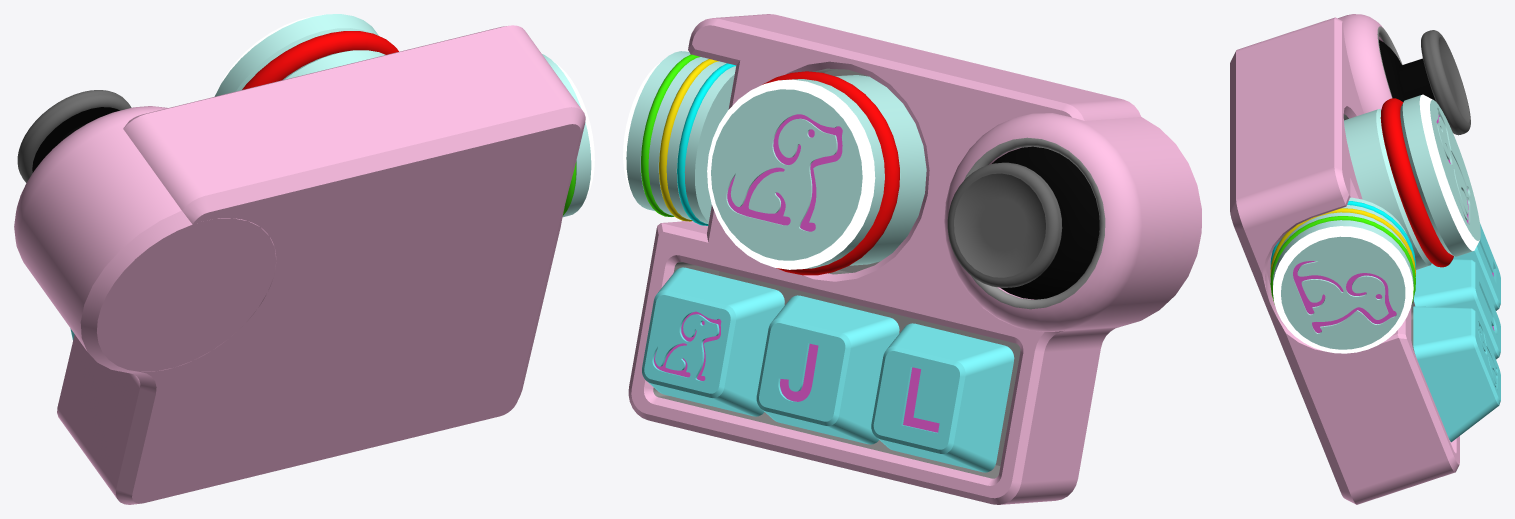
Rendered from cubey-495d68a6.glb.
3 views of the same model, side by side, from view 1: azimuth 30°, elevation 25°; view 2: azimuth 150°, elevation 25°; view 3: azimuth 270°, elevation 25° (orthographic). The views are drawn at different scales.
Parts seen in each view (by area): view 1: 实体193, 实体202, 实体186, 实体198; view 2: 实体193, 实体202, 实体186, 实体191, 实体190, 实体189, 实体198; view 3: 实体193, 实体198, 实体202, 实体189, 实体186, 实体190, 实体191.
Part boxes in pixels (left/top/right/bottom): 实体193: left=14, top=25, right=585, bottom=504; 实体202: left=214, top=14, right=398, bottom=96; 实体186: left=17, top=90, right=131, bottom=182; 实体198: left=542, top=54, right=594, bottom=217; 实体193: left=628, top=14, right=1201, bottom=504; 实体202: left=707, top=71, right=926, bottom=275; 实体186: left=947, top=146, right=1099, bottom=299; 实体191: left=871, top=323, right=1014, bottom=472; 实体190: left=756, top=295, right=899, bottom=444; 实体189: left=642, top=267, right=784, bottom=416; 实体198: left=623, top=51, right=736, bottom=225; 实体193: left=1230, top=14, right=1459, bottom=504; 实体198: left=1270, top=197, right=1415, bottom=353; 实体202: left=1344, top=94, right=1480, bottom=269; 实体189: left=1413, top=306, right=1500, bottom=442; 实体186: left=1379, top=30, right=1470, bottom=135; 实体190: left=1413, top=259, right=1500, bottom=359; 实体191: left=1453, top=223, right=1500, bottom=310.
Bounding box in the file's own units: 2.49 × 1.87 × 1.35.
